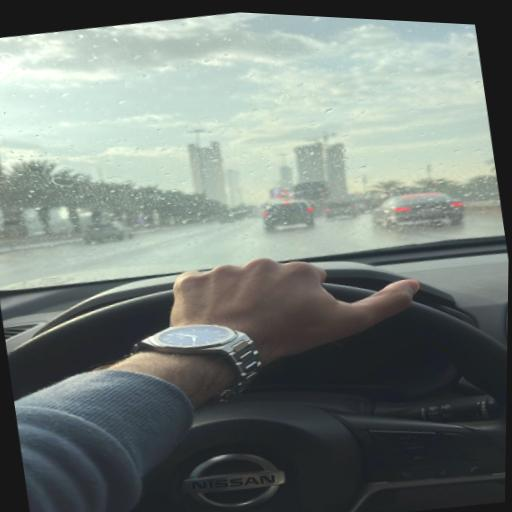Hands-on-the-Wheel: (105, 193, 453, 410)
